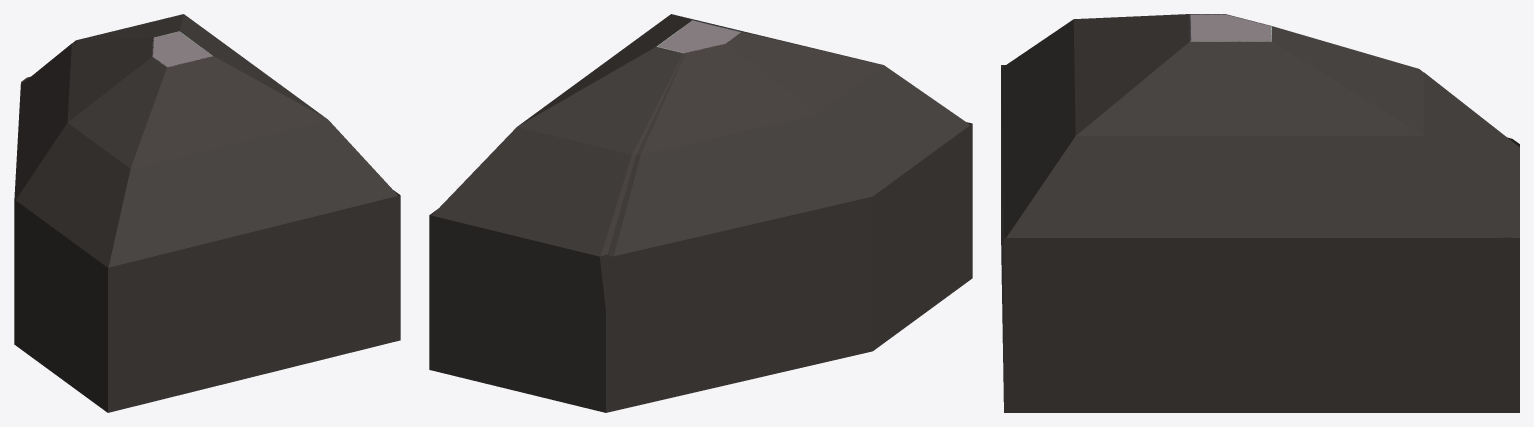
The model's file is _ahne.fbx.
3 views of the same model, side by side, from view 1: azimuth 30°, elevation 25°; view 2: azimuth 150°, elevation 25°; view 3: azimuth 270°, elevation 25° (orthographic). The views are drawn at different scales.
Visible parts, largest first — view 1: Cati, Studyo; view 2: Studyo, Cati; view 3: Cati, Studyo.
Part boxes in pixels (bbox=[...]): Cati: bbox=[14, 14, 398, 267]; Studyo: bbox=[14, 76, 400, 412]; Studyo: bbox=[429, 122, 972, 412]; Cati: bbox=[432, 14, 969, 256]; Cati: bbox=[1001, 14, 1519, 237]; Studyo: bbox=[1001, 65, 1519, 412].
Bounding box in the file's own units: 1885 × 1580 × 2390.
